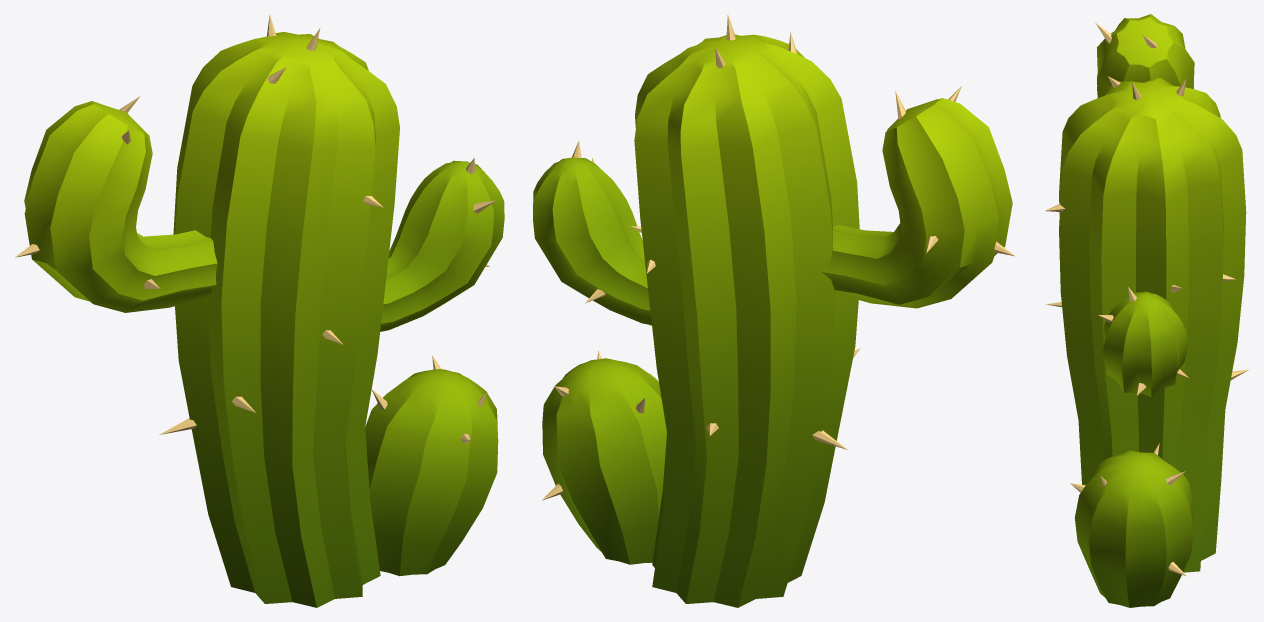
Rendered from Plant_Cactus_02.fbx.
3 views of the same model, side by side, from view 1: azimuth 30°, elevation 25°; view 2: azimuth 150°, elevation 25°; view 3: azimuth 270°, elevation 25° (orthographic). The views are drawn at different scales.
Visible parts, largest first — view 1: Plant_Cactus_02; view 2: Plant_Cactus_02; view 3: Plant_Cactus_02.
Part boxes in pixels (x1,y1,x2,y2): Plant_Cactus_02: (15,14,504,607); Plant_Cactus_02: (533,15,1015,607); Plant_Cactus_02: (1045,14,1248,607).
Bounding box in the file's own units: 121 × 133 × 52.2.
